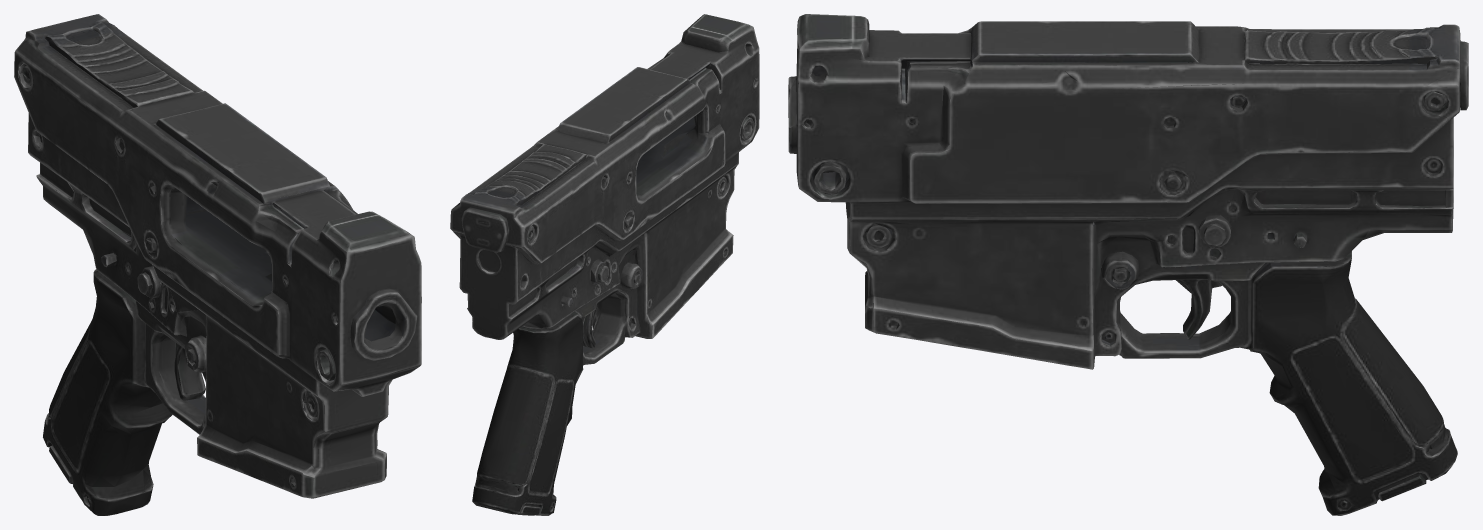
Rendered from rustworn.medium.glb.
3 views of the same model, side by side, from view 1: azimuth 30°, elevation 25°; view 2: azimuth 150°, elevation 25°; view 3: azimuth 270°, elevation 25° (orthographic). The views are drawn at different scales.
Parts seen in each view (by area): view 1: model; view 2: model; view 3: model.
Boxes of the visible parts, box(x1,y1,x2,y2) form: model: box(14, 14, 421, 515); model: box(450, 14, 759, 515); model: box(788, 14, 1468, 515).
Size of the model in its own units: 0.0808 by 0.3412 by 0.44.
1 material, 1 textured.
